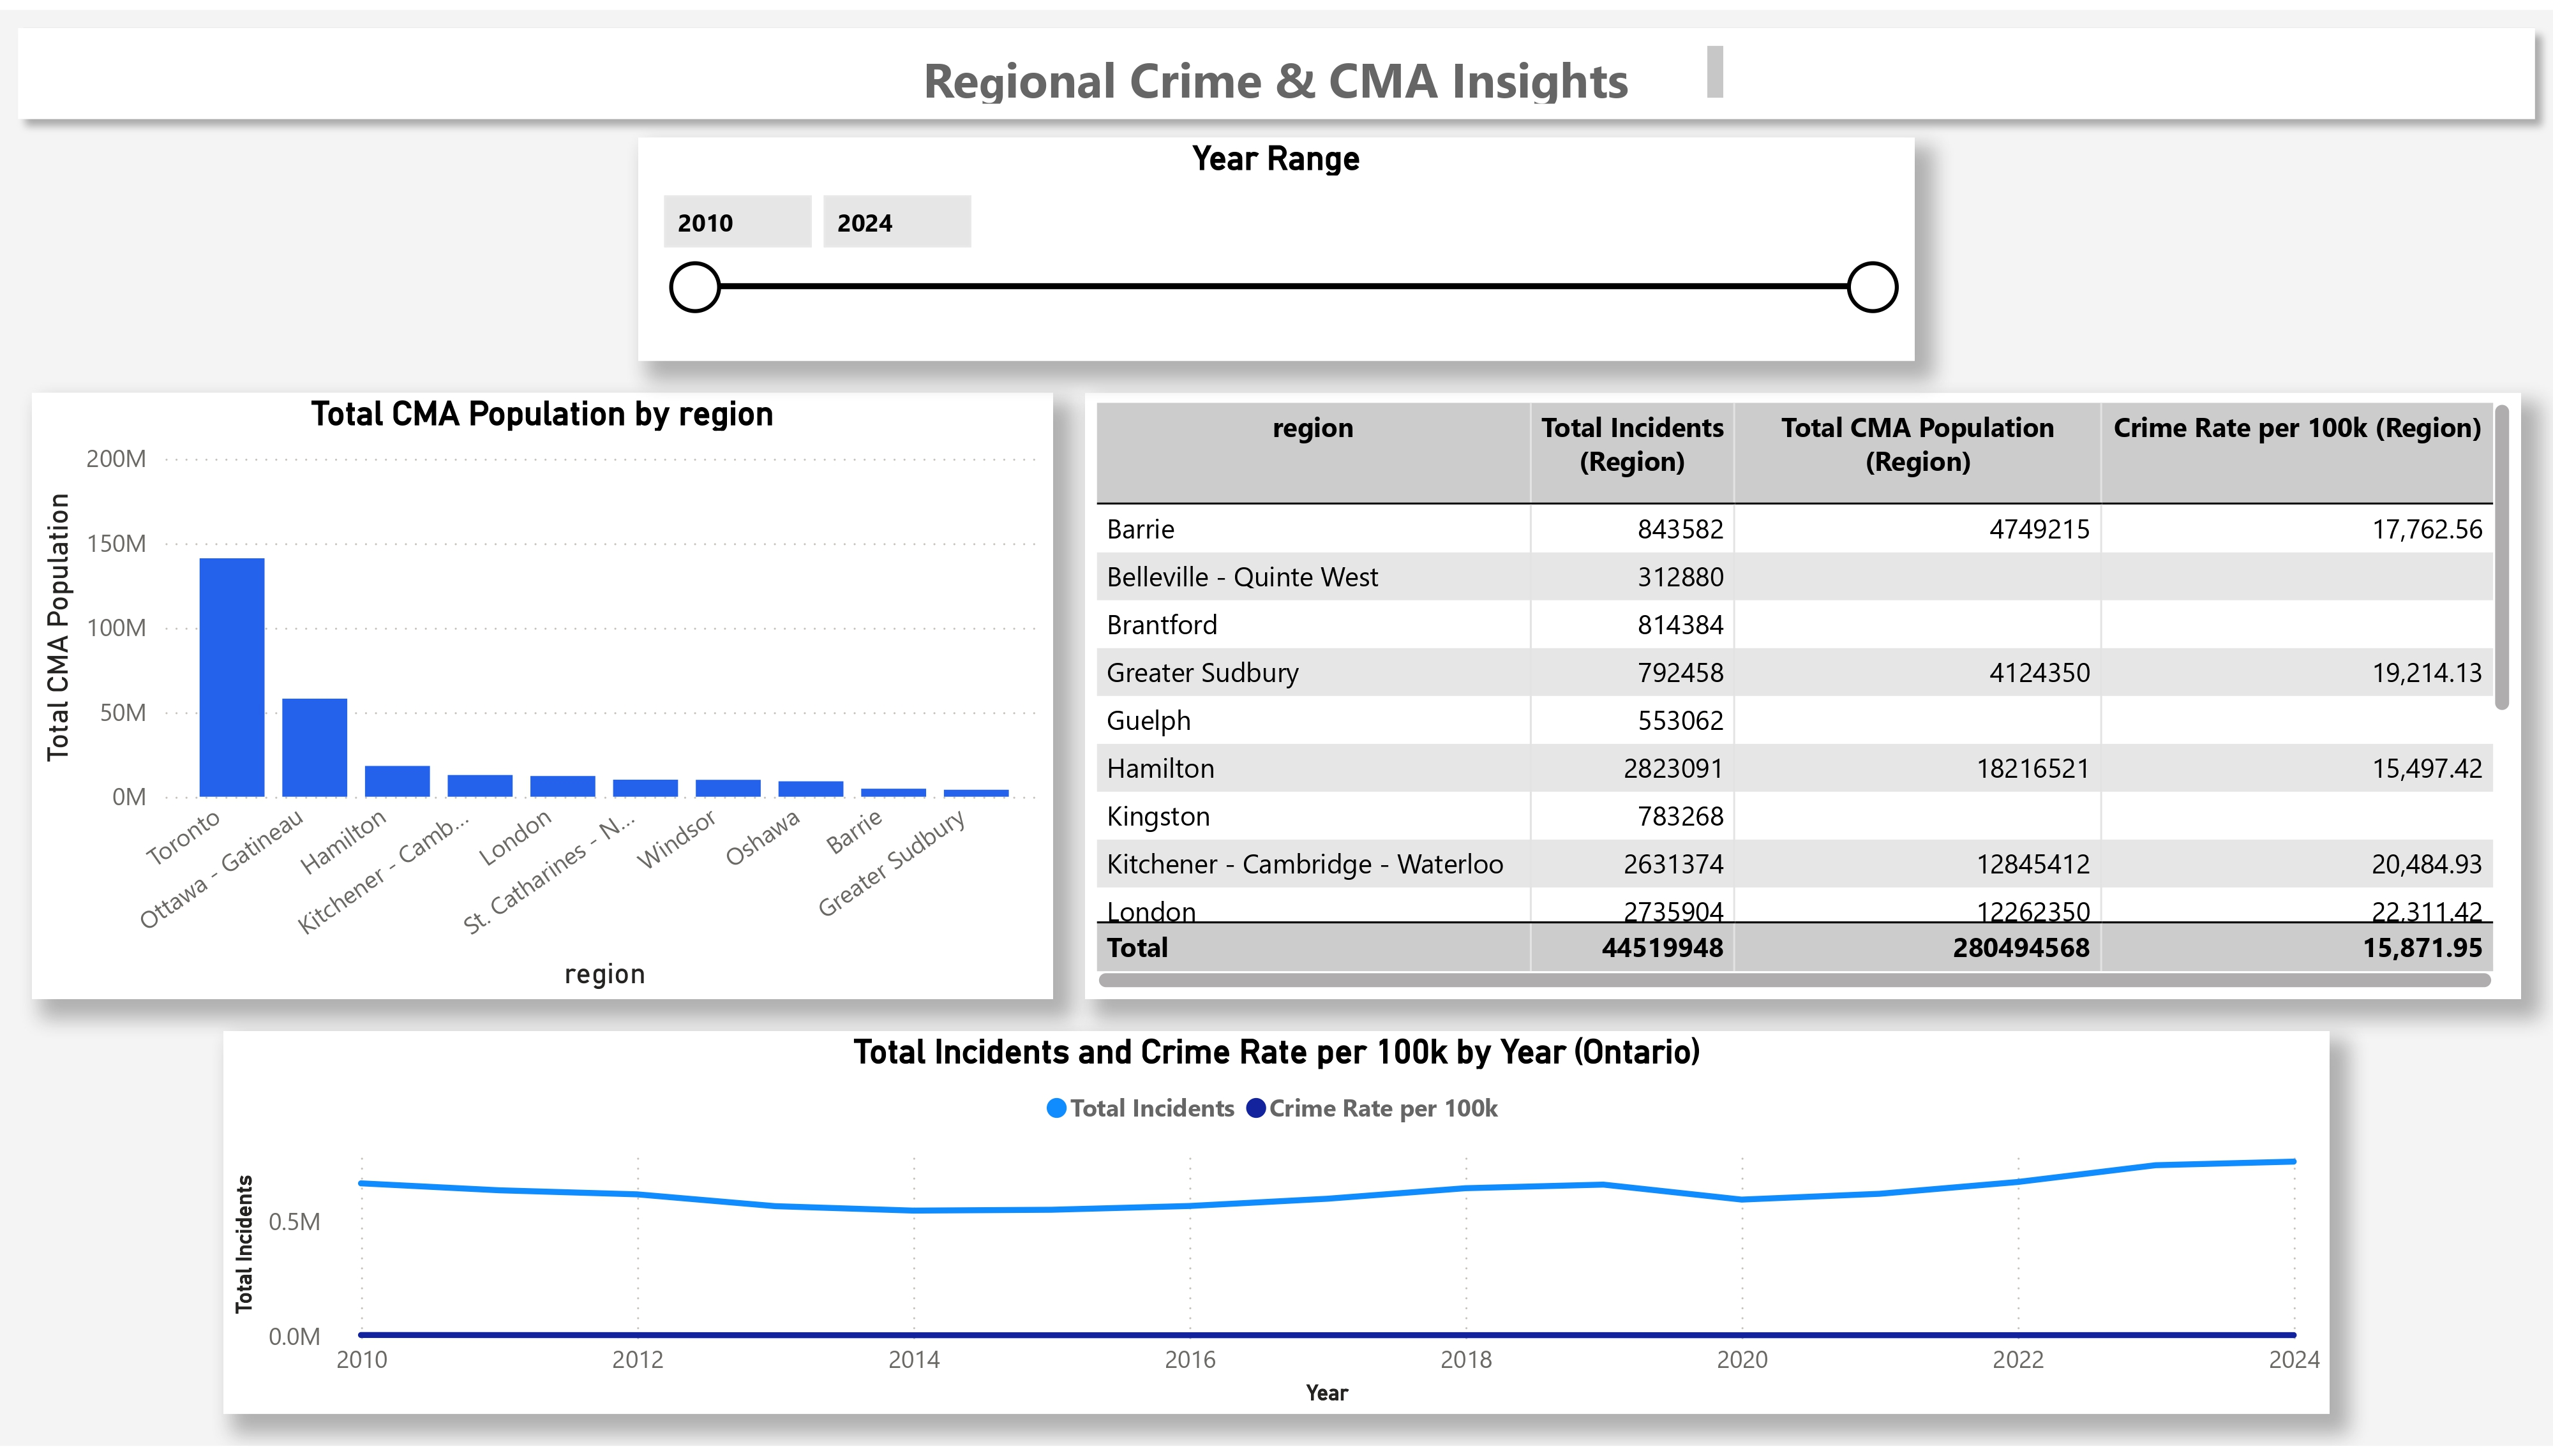

What the dashboard file says about the page in this screenshot:
{"tool":"powerbi","page":{"name":"Regions & CMA","canvas":[1280,720],"ordinal":2},"visuals":[{"type":"clusteredColumnChart","fields":{"Category":["population_annual_cma.region"],"Y":["population_annual_cma.Total CMA Population"]},"box":[16,192,512,304],"z":0},{"type":"tableEx","fields":{"Values":["dim_region.region","crime_annual_region.Total Incidents (Region)","crime_annual_region.Total CMA Population (Region)","crime_annual_region.Crime Rate per 100k (Region)"]},"box":[544,192,720,304],"z":1000},{"type":"lineChart","title":"Total Incidents and Crime Rate per 100k by Year (Ontario)","fields":{"Category":["crime_annual_ontario.year"],"Y":["crime_annual_ontario.Total Incidents","crime_annual_ontario.Crime Rate per 100k"]},"box":[112,512,1056,192],"z":2000},{"type":"slicer","title":"Year Range","fields":{"Values":["crime_annual_region.year"]},"box":[320,64,640,112],"z":3000},{"type":"shape","box":[0,0,1280,63.8],"z":4000},{"type":"textbox","box":[417.5,12.5,451.2,38.8],"z":5000}]}

Visuals, with their boxes in screenshot pixels (x1, y1, x2, y2), scaled from the page's 1280x720 canvas onto the 2553x1456 screenshot:
clusteredColumnChart - population_annual_cma.region x population_annual_cma.Total CMA Population: (x1=32, y1=389, x2=1053, y2=1003)
tableEx - dim_region.region x crime_annual_region.Total Incidents (Region): (x1=1085, y1=389, x2=2521, y2=1003)
"Total Incidents and Crime Rate per 100k by Year (Ontario)" lineChart: (x1=223, y1=1036, x2=2330, y2=1423)
"Year Range" slicer: (x1=638, y1=130, x2=1915, y2=356)
shape: (x1=0, y1=0, x2=2552, y2=129)
textbox: (x1=833, y1=26, x2=1733, y2=104)
